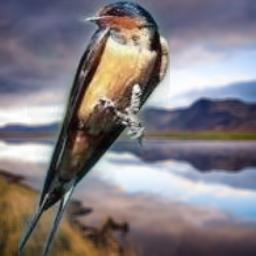Swallow: (18, 0, 170, 256)
